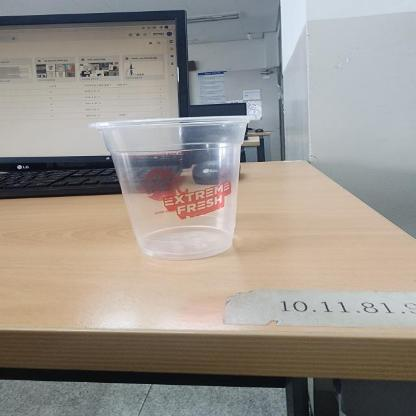Plastic Cup: (86, 116, 256, 260)
